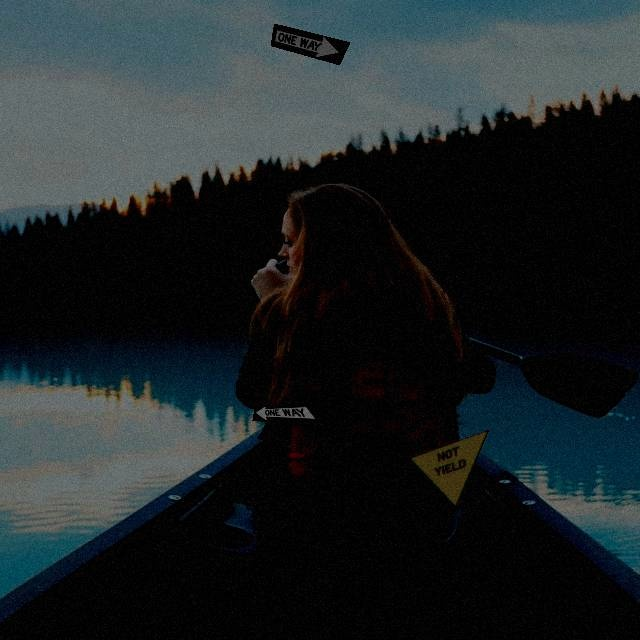NOT_YIELD: (409, 429, 489, 507)
ONE_WAY_ left: (252, 402, 332, 428)
ONE_WAY_ right: (270, 23, 350, 65)
